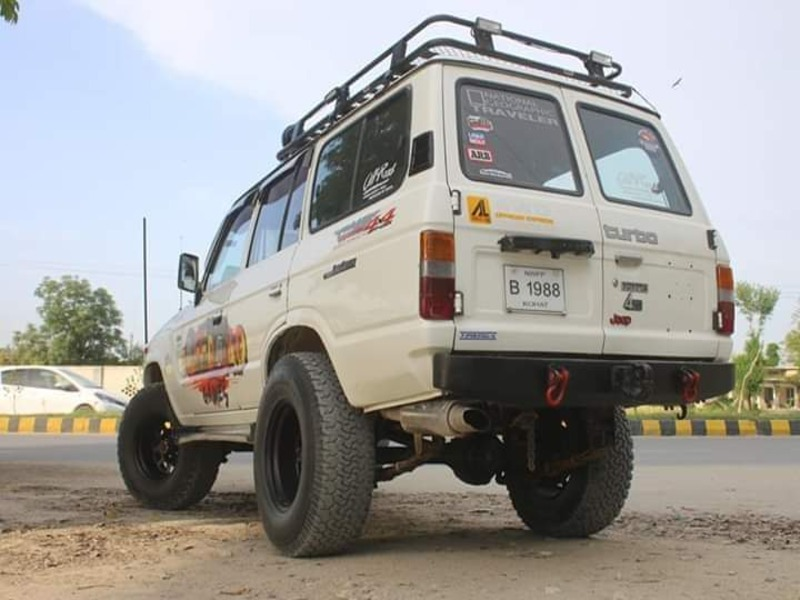License Plate: (502, 259, 569, 319)
